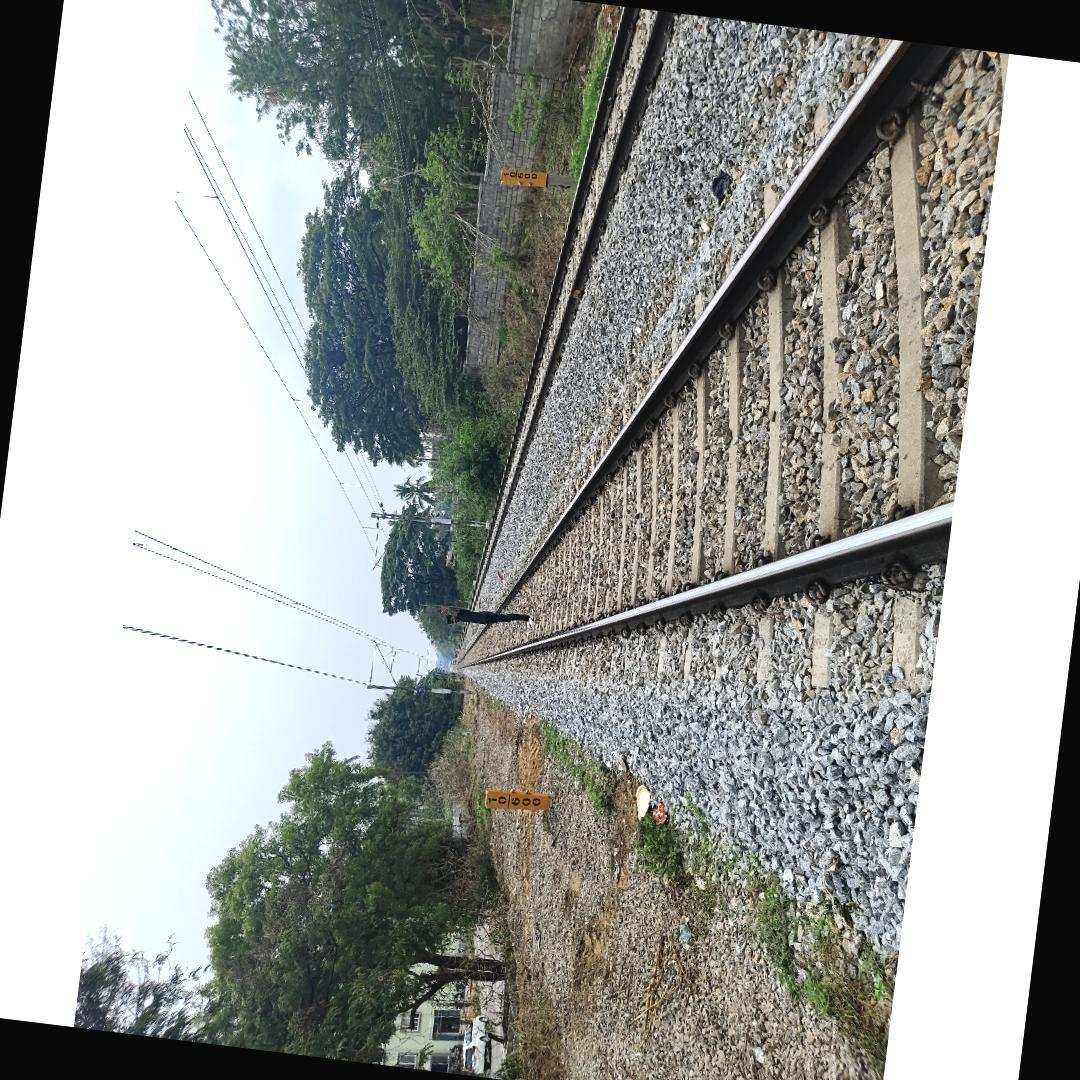standing: (440, 602, 532, 634)
track: (448, 33, 1001, 688)
